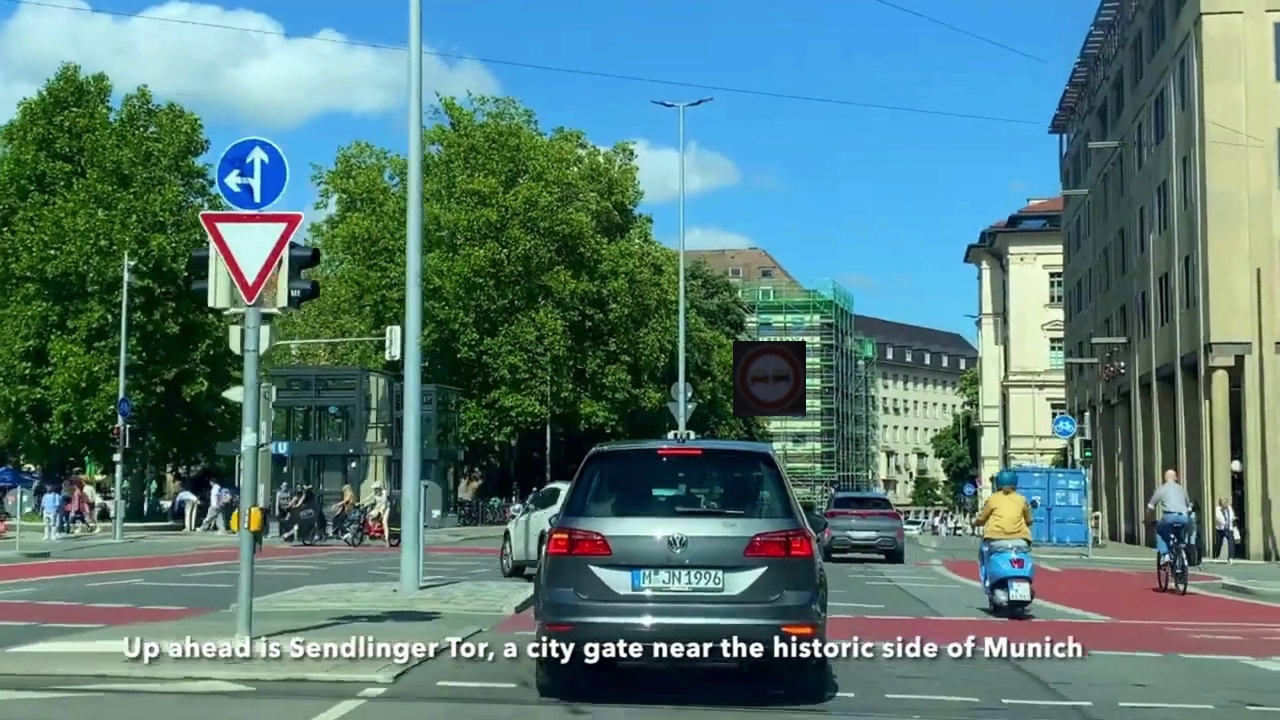No passing: (733, 341, 806, 416)
